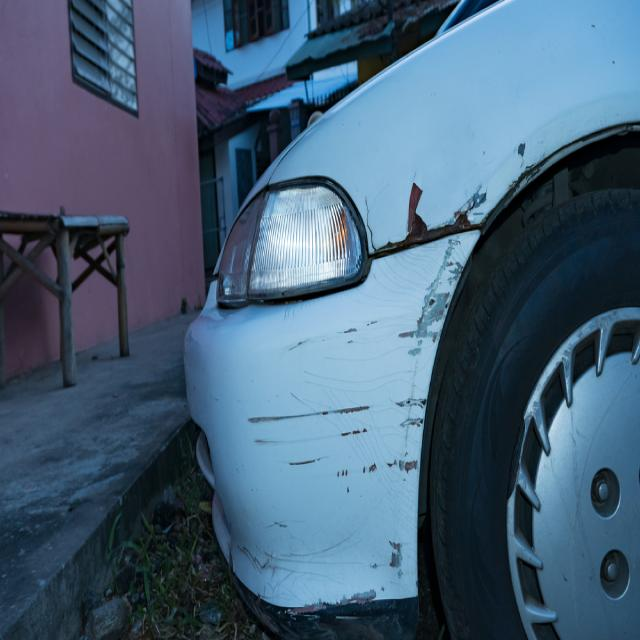crack: (366, 196, 376, 251)
scratch: (242, 236, 469, 608)
